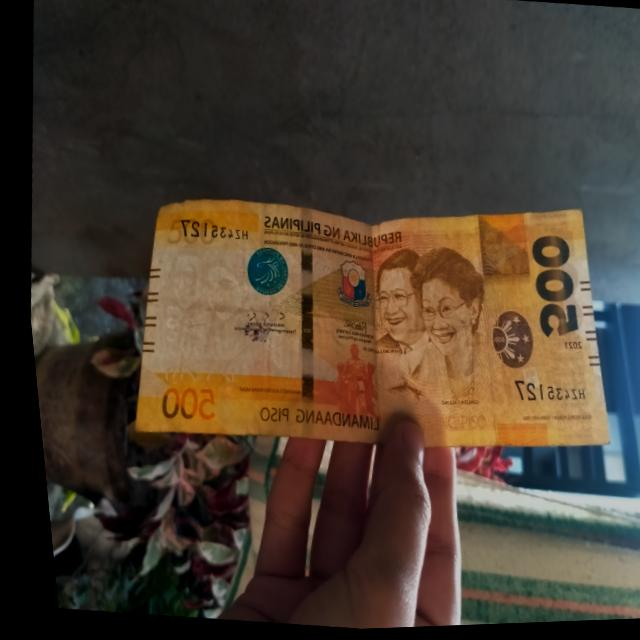concealed_value: (460, 206, 534, 293)
optically_variable_device: (468, 294, 542, 390)
security_thread: (269, 211, 327, 438)
see_through_mark: (137, 360, 232, 400)
serial_number: (169, 207, 255, 256), (497, 379, 585, 421)
watermark: (146, 235, 254, 387)
